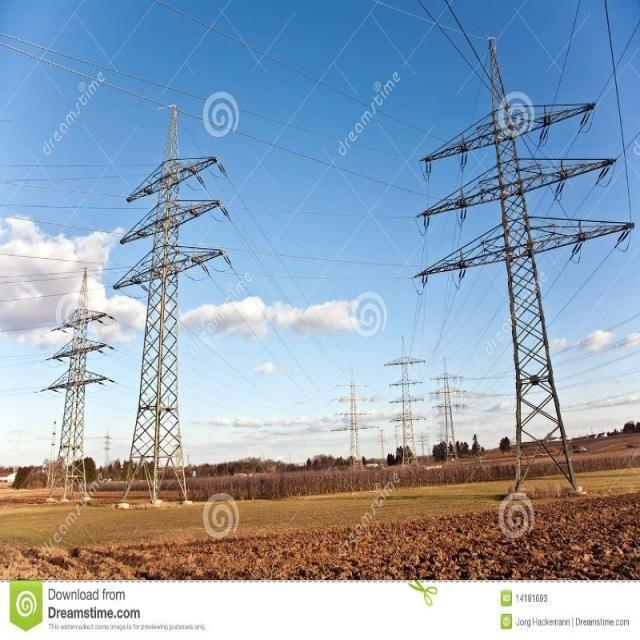non-critical vegetation: (416, 49, 626, 498), (112, 111, 227, 516), (52, 274, 104, 513), (384, 332, 431, 476), (433, 360, 473, 457), (340, 370, 371, 470)
